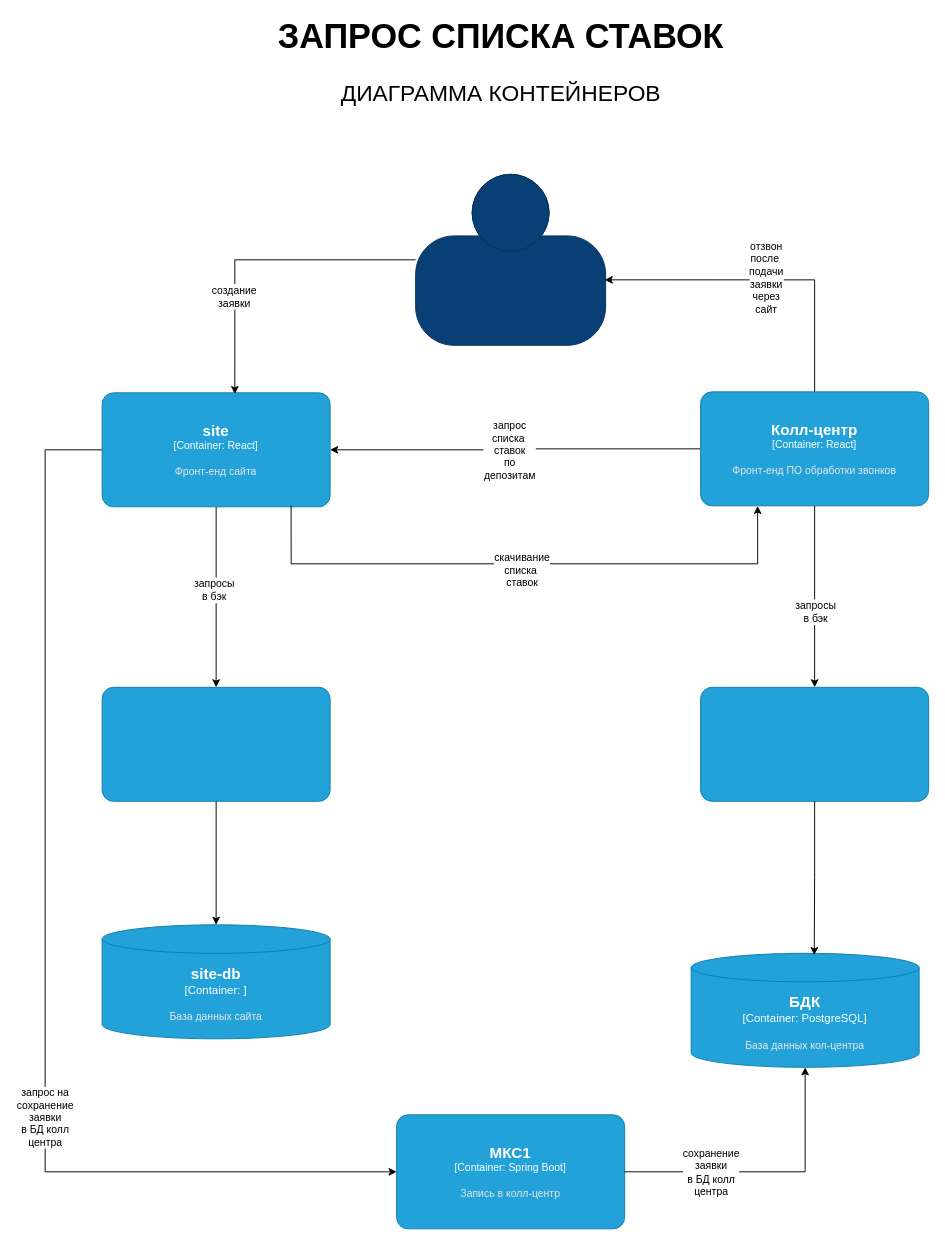
Some shapes in this 945 by 1245 pixel diagram are drawn without their labels. Each missing label, with the box of its shape:
site back [Container: React] Бэк-енд сайта: (101, 686, 330, 801)
Клиент [Person] Клиент: (415, 173, 606, 345)
Колл-центр [Container: React] Бэк-енд ПО обработки звонков: (700, 686, 929, 801)
